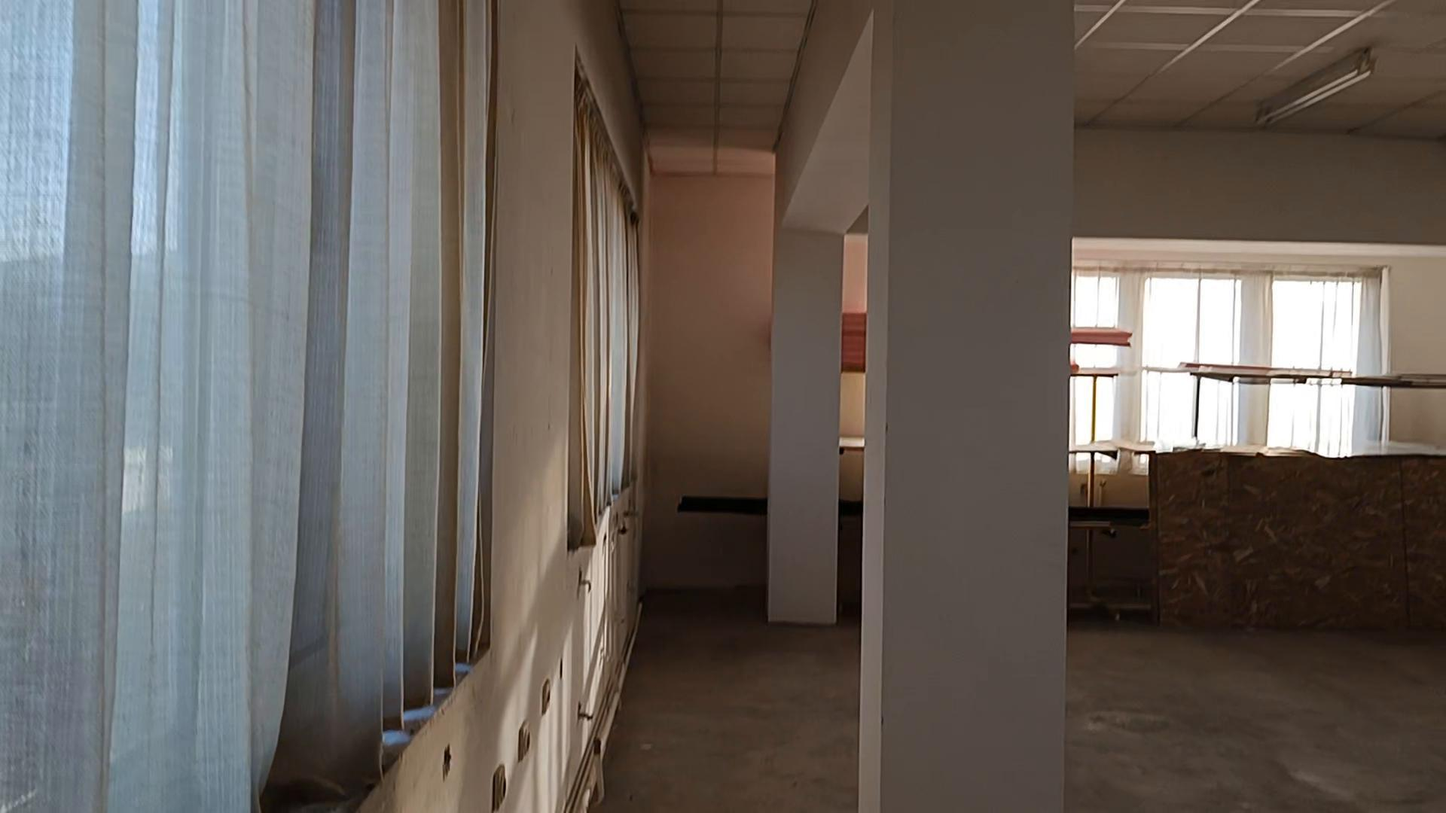ceiling: (1075, 0, 1445, 142), (619, 0, 813, 174)
floor: (1064, 620, 1445, 812), (595, 592, 858, 812)
wall: (655, 0, 1445, 812), (384, 3, 648, 812)
